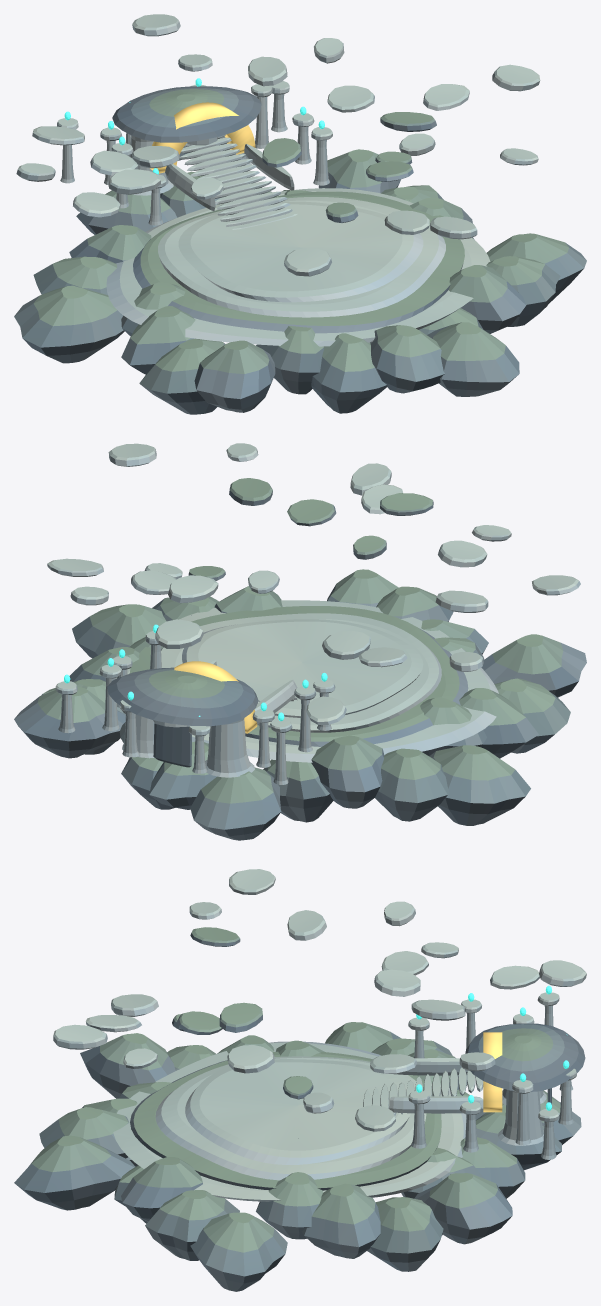
Rendered from cloud-ruins-high.glb.
3 renders of one model, top to bottom at view 1: azimuth 30°, elevation 25°; view 2: azimuth 150°, elevation 25°; view 3: azimuth 270°, elevation 25°, orthographic. The views are drawn at different scales.
Parts seen in each view (by area): view 1: CloudTemple, FloatingSlabs, TempleSteps, RunePillars; view 2: CloudTemple, FloatingSlabs, RunePillars, TempleSteps; view 3: CloudTemple, FloatingSlabs, RunePillars, TempleSteps.
Boxes of the visible parts, <box> form: CloudTemple: <box>14,86,586,414</box>; FloatingSlabs: <box>16,14,540,276</box>; TempleSteps: <box>165,134,297,229</box>; RunePillars: <box>57,78,409,225</box>; CloudTemple: <box>14,569,586,840</box>; FloatingSlabs: <box>47,443,580,725</box>; RunePillars: <box>55,615,335,784</box>; TempleSteps: <box>210,660,297,724</box>; CloudTemple: <box>14,1022,585,1291</box>; FloatingSlabs: <box>53,869,586,1131</box>; RunePillars: <box>298,985,576,1159</box>; TempleSteps: <box>363,1058,483,1115</box>.
Bounding box in the file's own units: 133 × 58.76 × 133.
